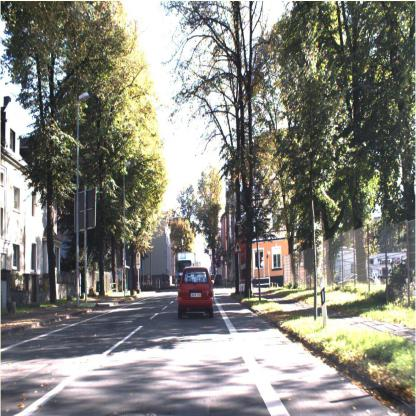danger: (233, 240, 242, 255)
